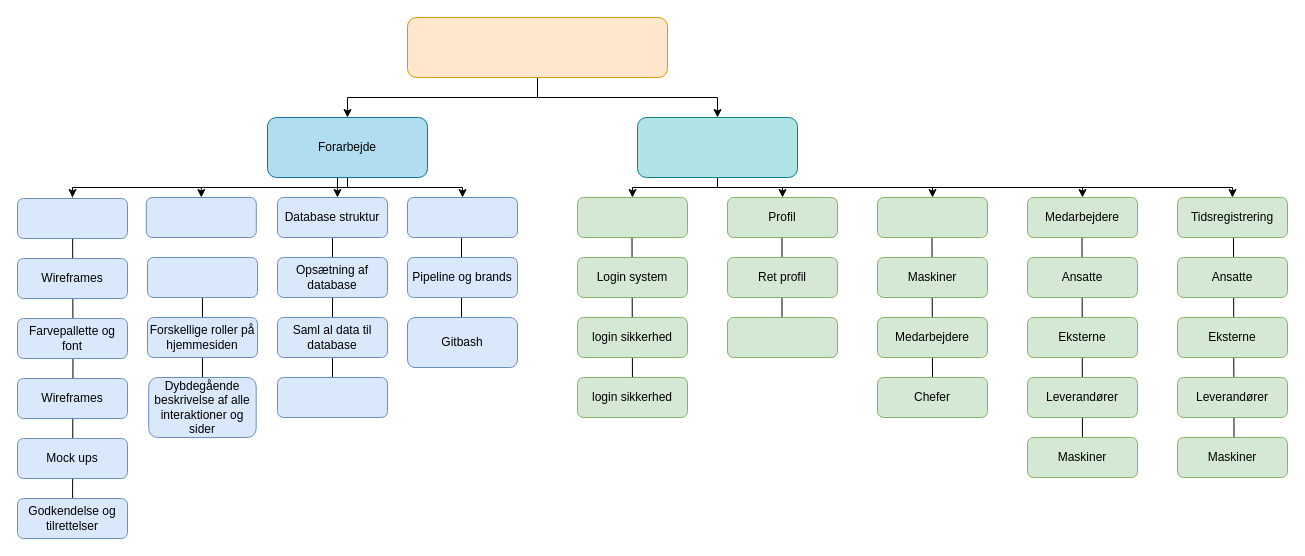
Some shapes in this 1305 by 556 pixel diagram are drawn without their labels. Each missing label, with the centre of its shape:
"Flowchart" goes at (202,277).
"Forside" goes at (632,217).
"Kalender" goes at (932,217).
"Medarbejder profil" goes at (782,337).
"Opret alle tabeller i database" goes at (332,397).
"Opsætning af Git" goes at (462,217).
"PBS" goes at (200,217).
"Programmering sprog : PHP og MYSQL" goes at (717,147).
"Skitser og idé" goes at (72,218).
"Struktur og oversigt over webapplikation Butler Boreteknik" goes at (537,47).
